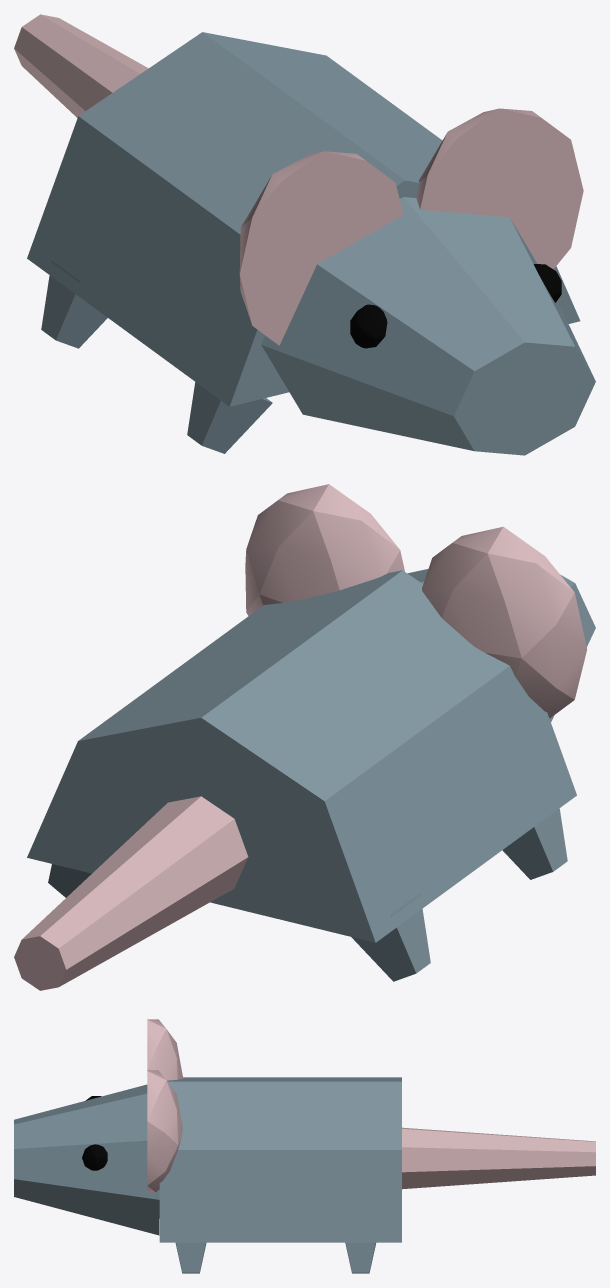
Rendered from rat.fbx.
3 renders of one model, top to bottom at view 1: azimuth 30°, elevation 25°; view 2: azimuth 150°, elevation 25°; view 3: azimuth 270°, elevation 25°, orthographic. The views are drawn at different scales.
Visible parts, largest first — view 1: mergedBlocks; view 2: mergedBlocks; view 3: mergedBlocks.
Part boxes in pixels (x1,y1,x2,y2): mergedBlocks: (14, 14, 595, 455); mergedBlocks: (14, 484, 595, 990); mergedBlocks: (14, 1019, 595, 1273).
Size of the model in its own units: 10.55 by 8.35 by 24.
